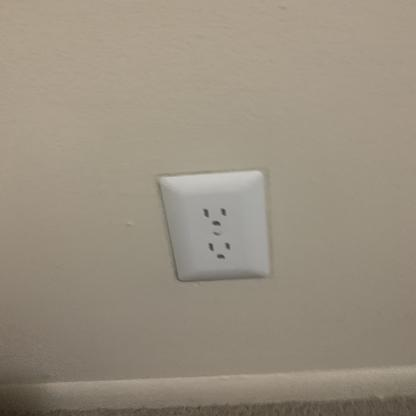OUTLET: (156, 171, 272, 280)
